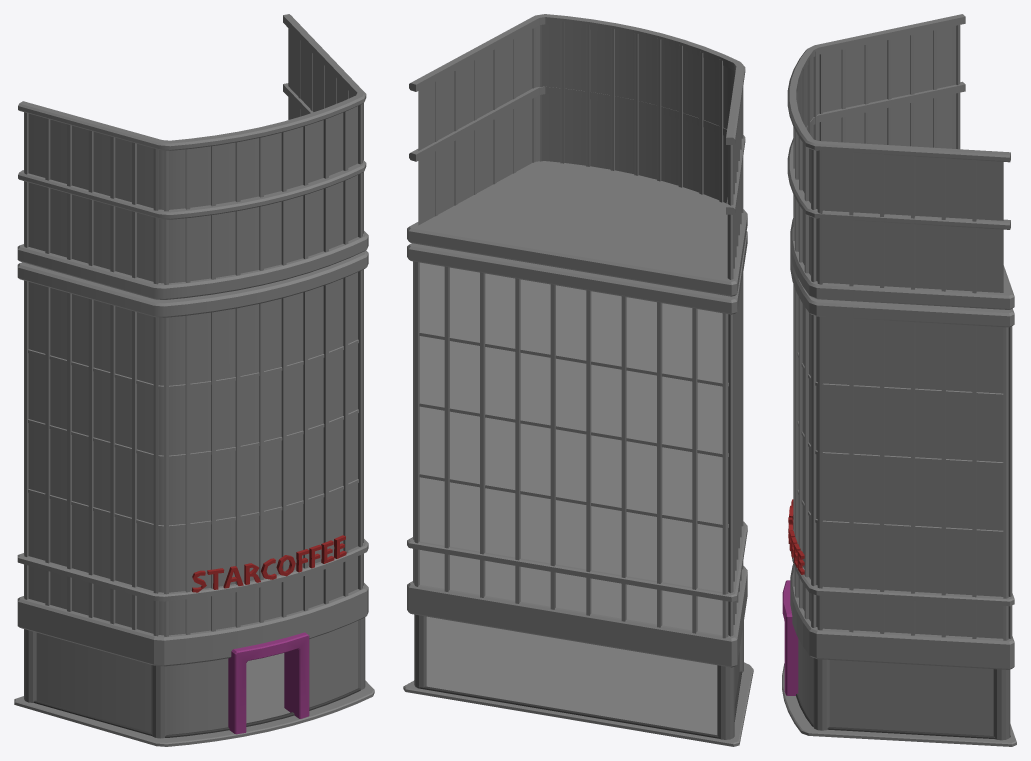
File: SM_building_tall_05.fbx
The picture shows the model from 3 angles, left to right: view 1: azimuth 30°, elevation 25°; view 2: azimuth 150°, elevation 25°; view 3: azimuth 270°, elevation 25°; orthographic projection. The views are drawn at different scales.
Parts seen in each view (by area): view 1: Object32317; view 2: Object32317; view 3: Object32317.
Part boxes in pixels (left/top/right/bottom): Object32317: left=14, top=14, right=374, bottom=746; Object32317: left=403, top=14, right=753, bottom=746; Object32317: left=782, top=14, right=1016, bottom=746.
Bounding box in the file's own units: 455 × 851 × 308.
